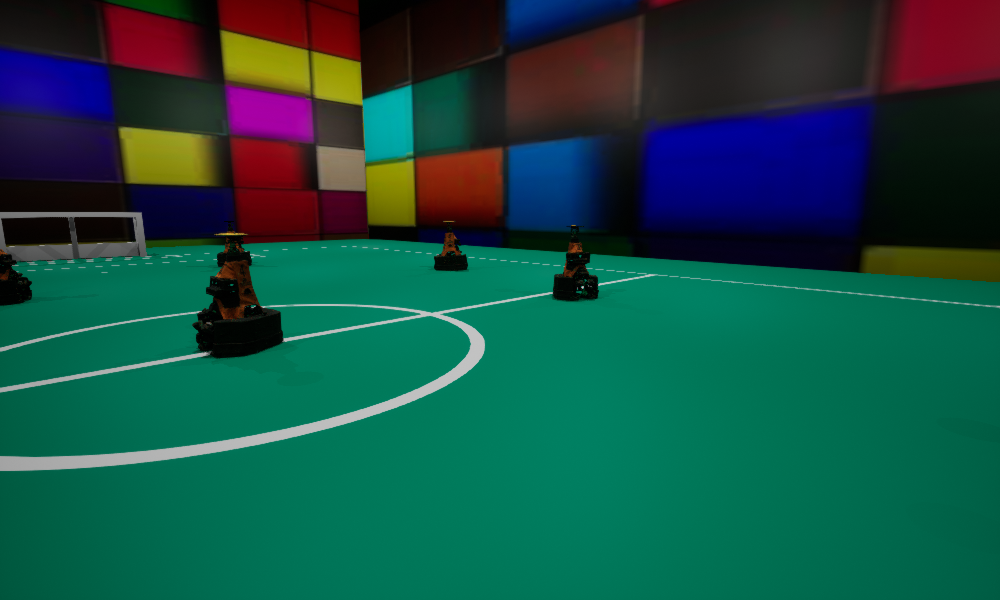o: (192, 233, 282, 356), (553, 225, 598, 300), (0, 249, 31, 305), (434, 221, 467, 270), (217, 221, 251, 266)
